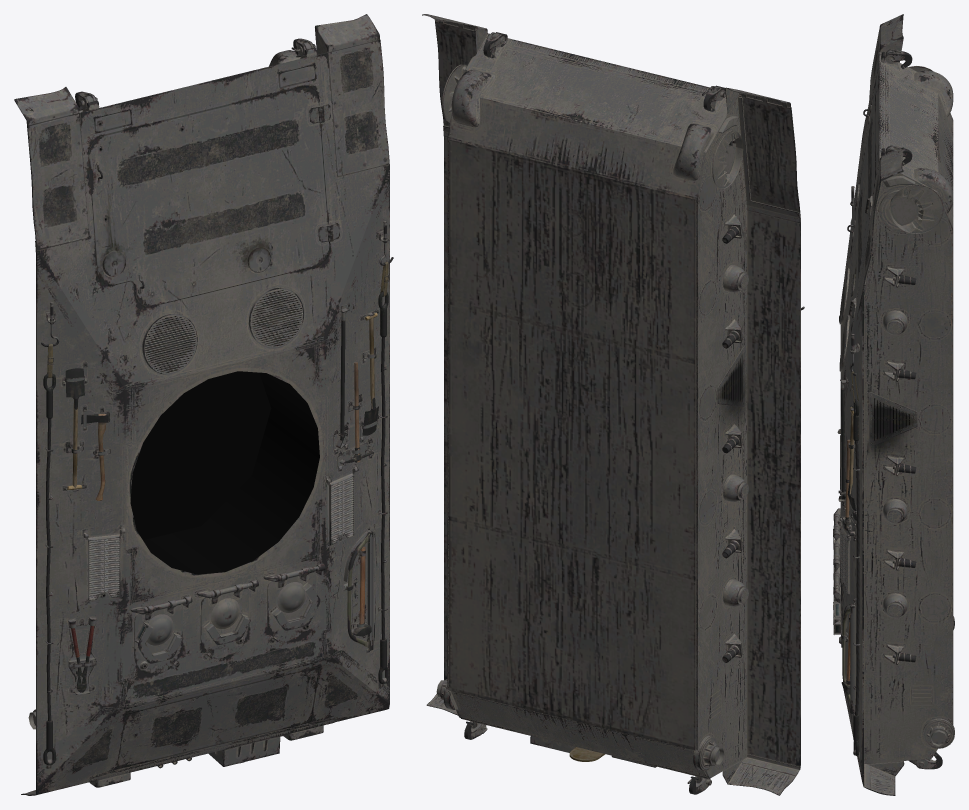
File: Hull.glb
3 renders of one model, left to right at view 1: azimuth 30°, elevation 25°; view 2: azimuth 150°, elevation 25°; view 3: azimuth 270°, elevation 25°, orthographic. The views are drawn at different scales.
Parts seen in each view (by area): view 1: set_0_group_0; view 2: set_0_group_0; view 3: set_0_group_0.
Part boxes in pixels (bbox=[...]): set_0_group_0: bbox=[14, 14, 393, 795]; set_0_group_0: bbox=[422, 14, 804, 795]; set_0_group_0: bbox=[833, 14, 954, 795].
Bounding box in the file's own units: 3.45 × 6.58 × 1.14.
Materials: 1 (1 with a texture image).
